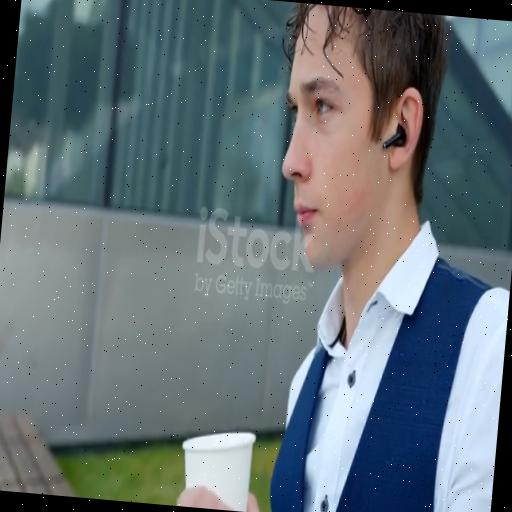earphone: (380, 124, 410, 166)
